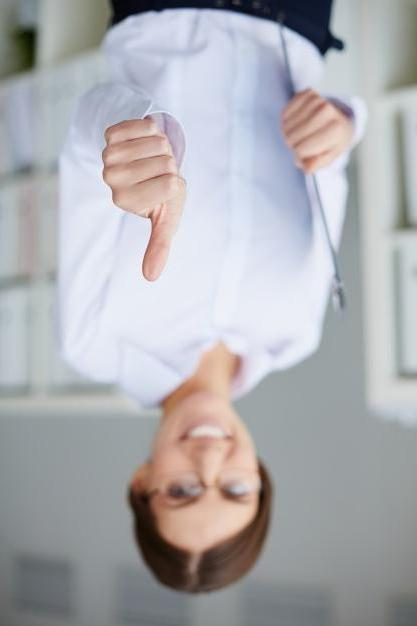thumbsdown: (101, 118, 182, 282)
